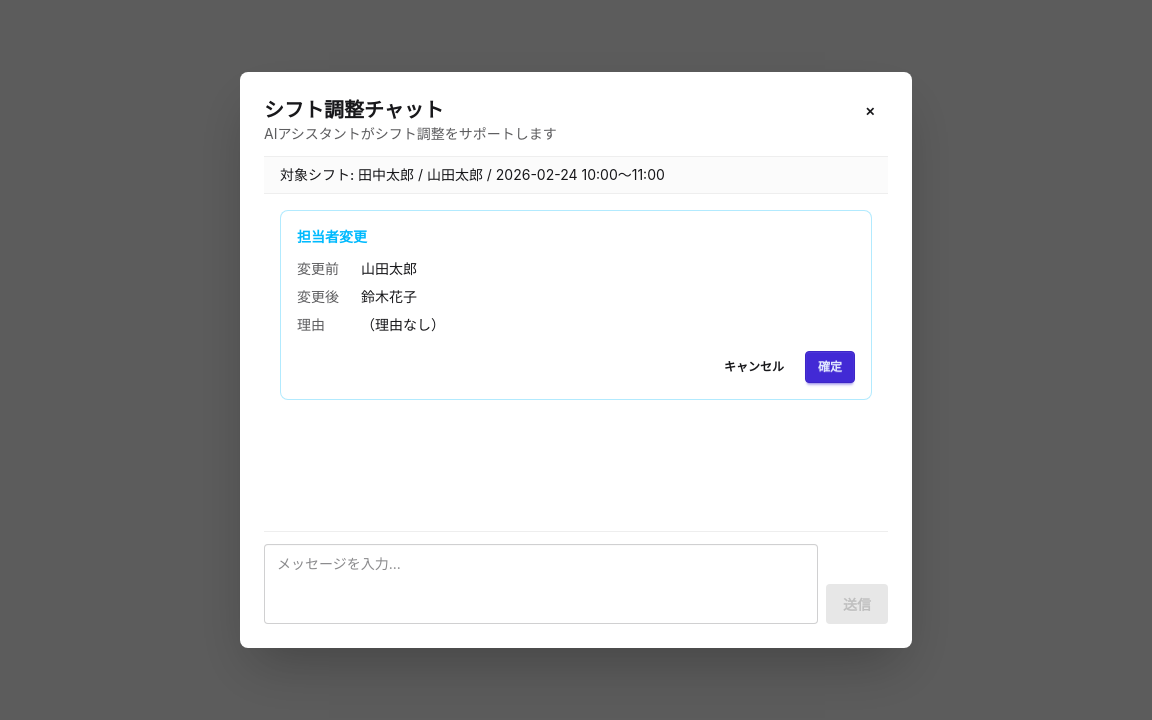
Test case: AdjustmentChatDialog › 提案をキャンセルした後はチャット内プレースホルダを表示する
Expected: the text "担当者変更" is shown, [297, 228, 367, 245]
Expected: the text "（提案を生成しました）" is not shown
Click the button "キャンセル": (754, 367) [711, 351, 797, 383]
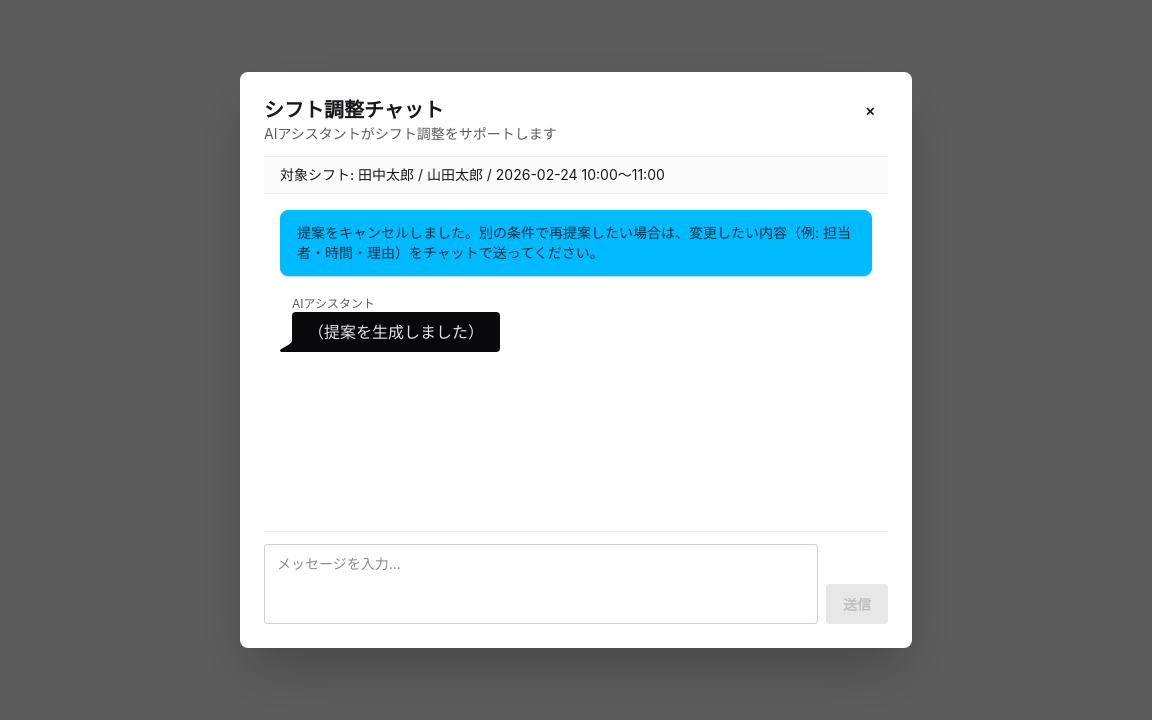
Now the text "担当者変更" is gone
Now the text "（提案を生成しました）" is shown, box [292, 312, 500, 352]
Now the text "提案をキャンセルしました。別の条件で再提案したい場合は、変更したい内容（例: 担当者・時間・理由）をチャットで送ってください。" is shown, box [280, 210, 872, 276]
